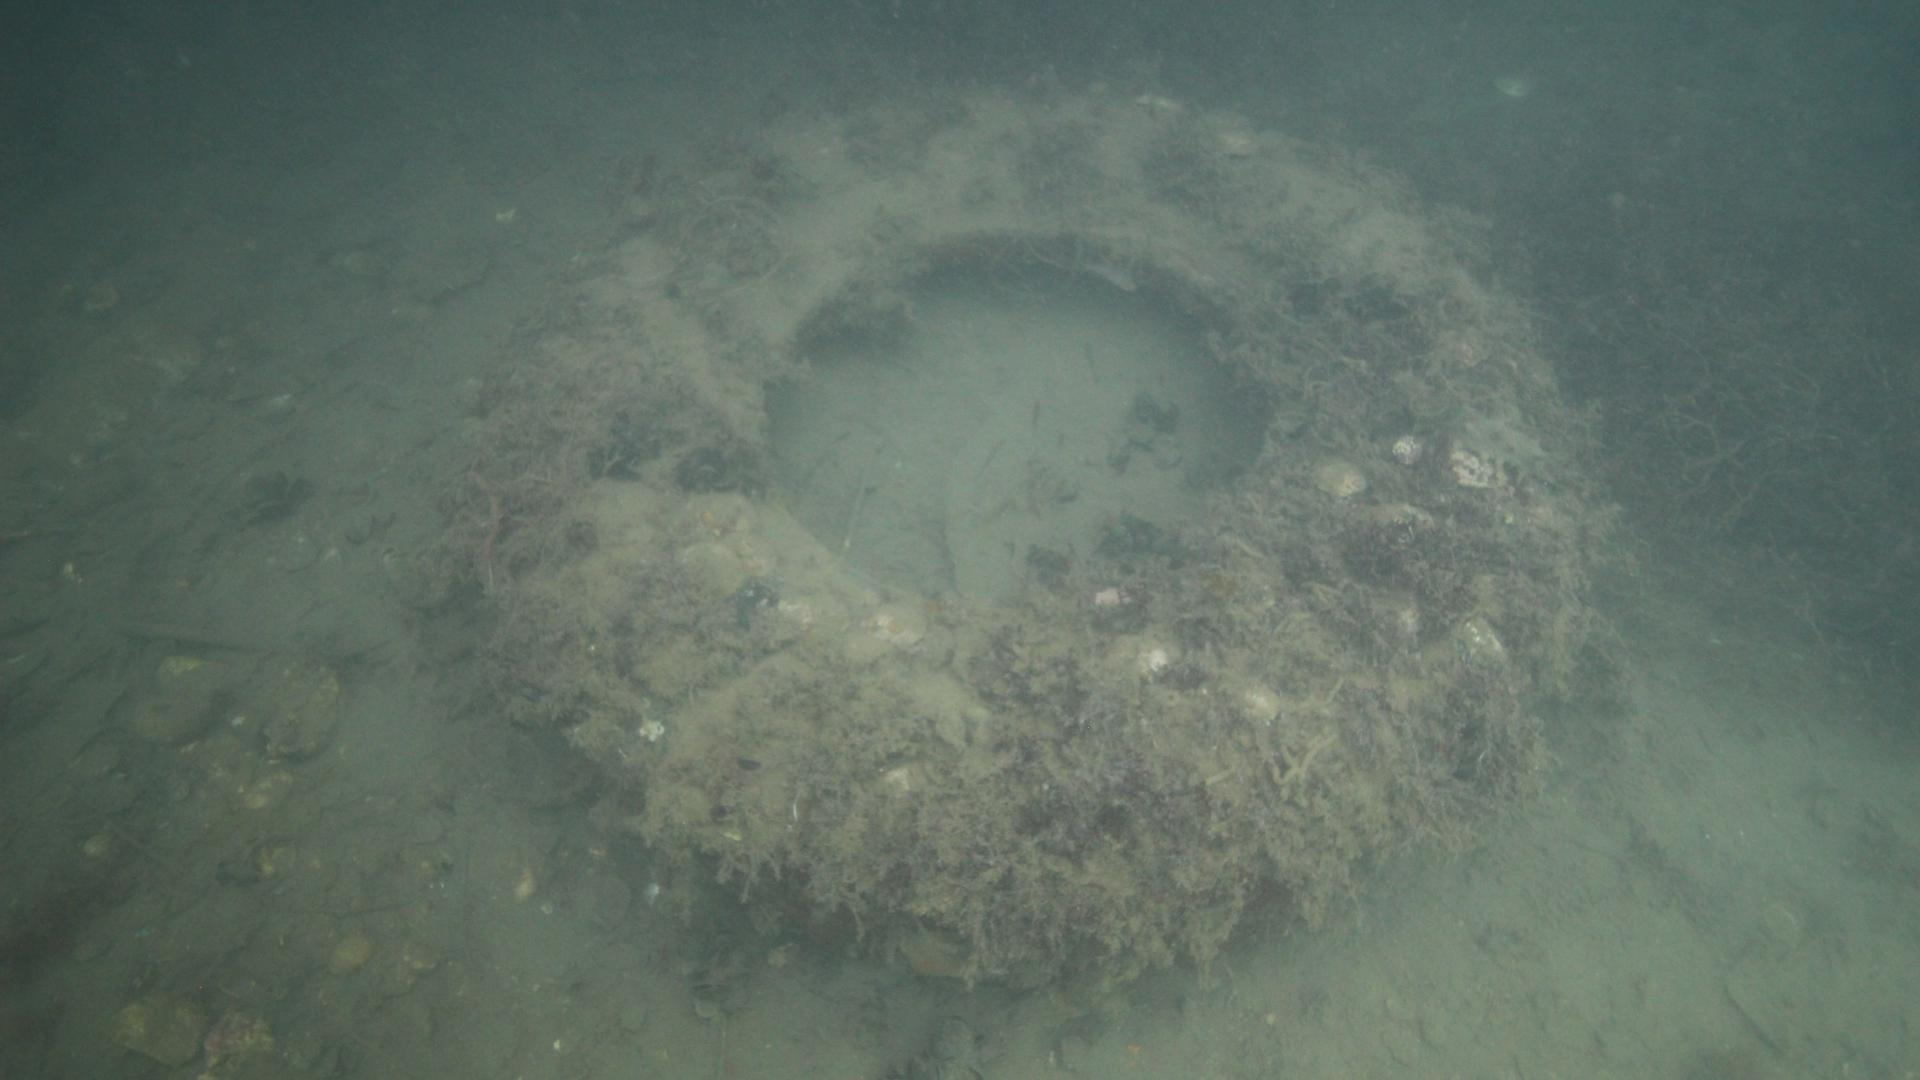tire: (491, 87, 1578, 920)
